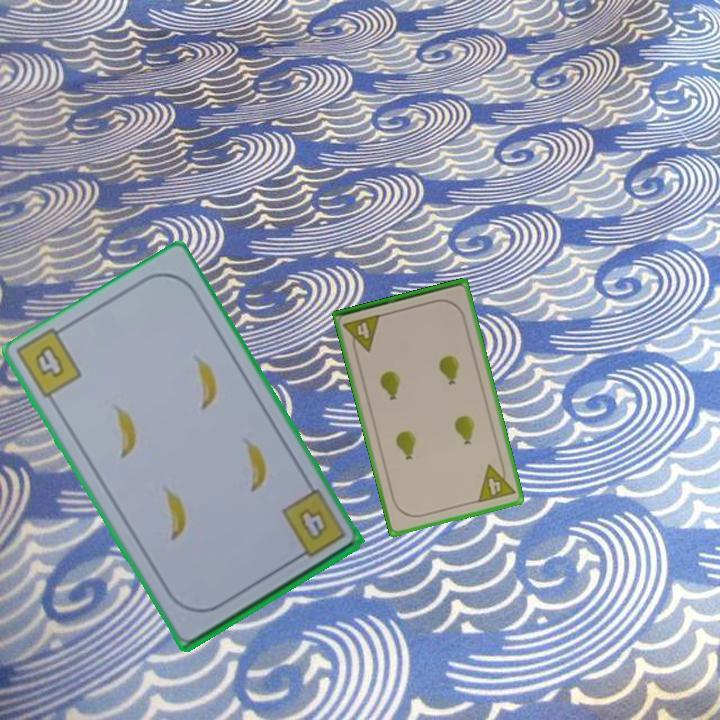4b: (278, 486, 349, 564), (30, 341, 67, 381)
4p: (474, 458, 518, 506), (340, 311, 384, 357)
